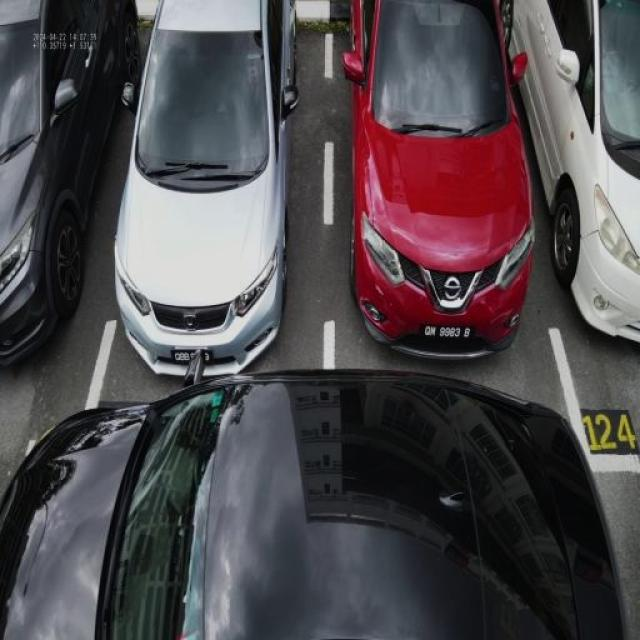Legalparking: (115, 0, 298, 375), (342, 0, 534, 356), (0, 0, 140, 364), (512, 0, 639, 341)
illegalparking: (0, 370, 626, 639)
